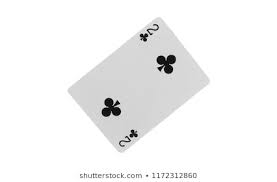two of clubs: (69, 17, 211, 153)
